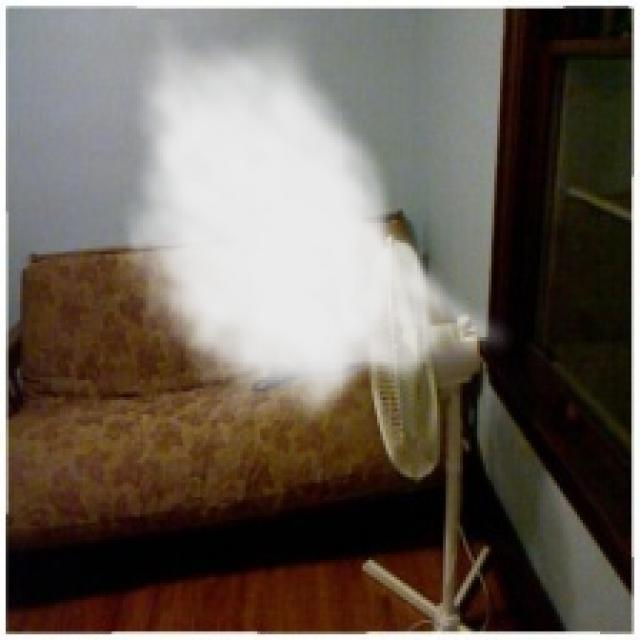Smoke: (114, 14, 517, 432)
